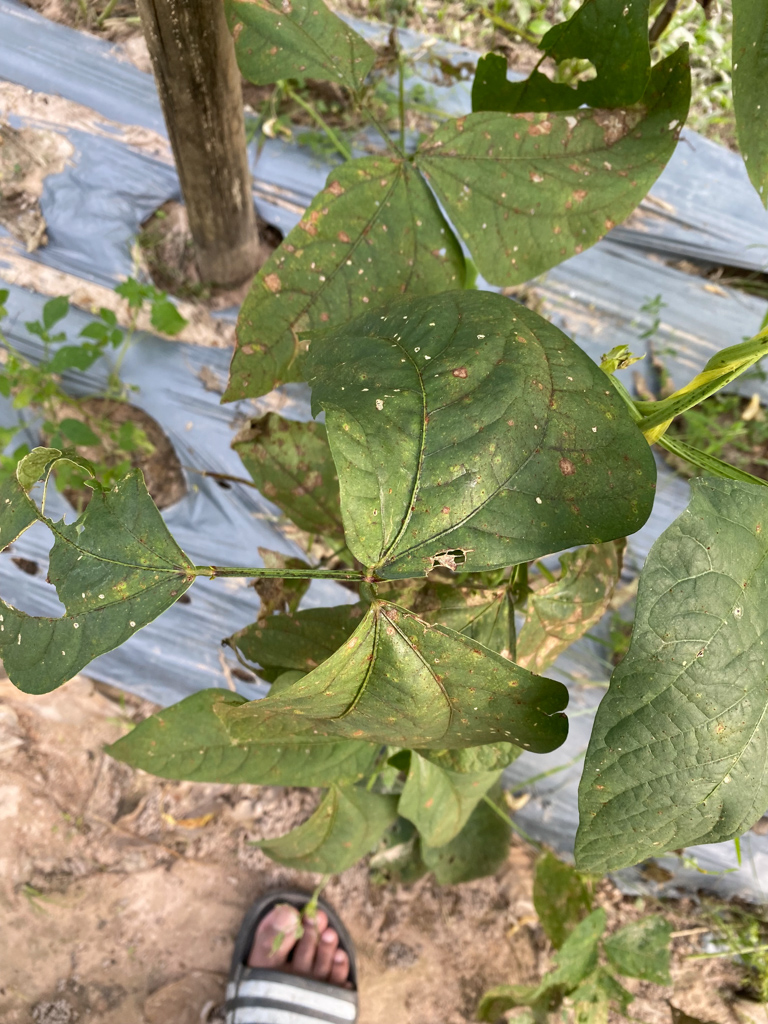Canker: (434, 105, 665, 278), (424, 358, 648, 527), (246, 169, 395, 310)
